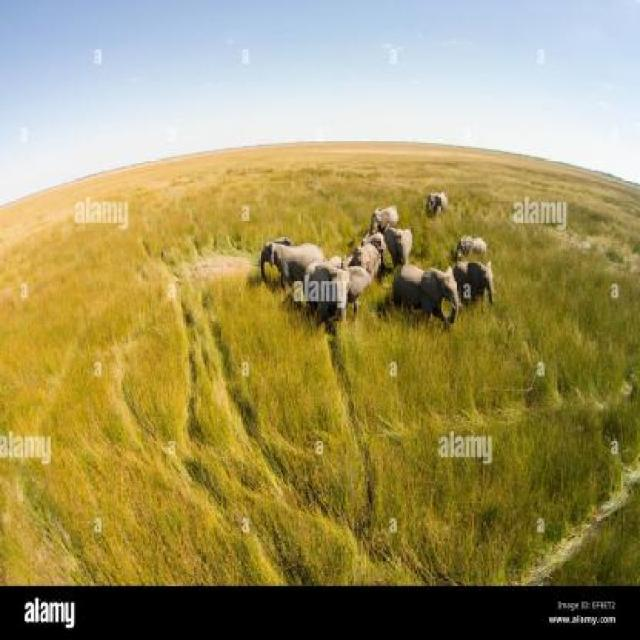elephant: (398, 270, 460, 324), (302, 262, 349, 321), (448, 254, 495, 312), (328, 253, 382, 302), (252, 234, 316, 274), (342, 229, 396, 276), (422, 166, 461, 222), (367, 188, 407, 238), (384, 222, 424, 261), (461, 233, 493, 255)
